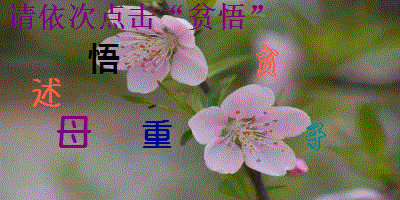text: (56, 114, 92, 151), (86, 41, 121, 76), (141, 119, 175, 152), (31, 76, 63, 108), (256, 45, 280, 79), (304, 122, 328, 151)
